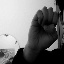e: (26, 5, 60, 50)
